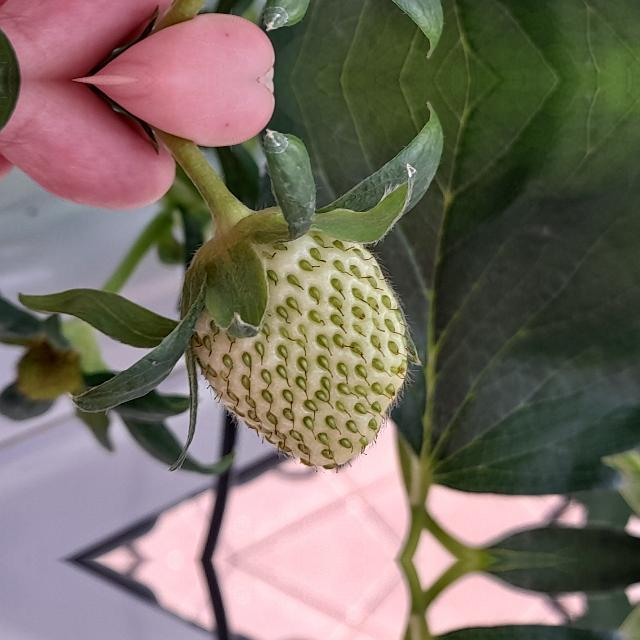Health_25: (180, 216, 420, 474)
